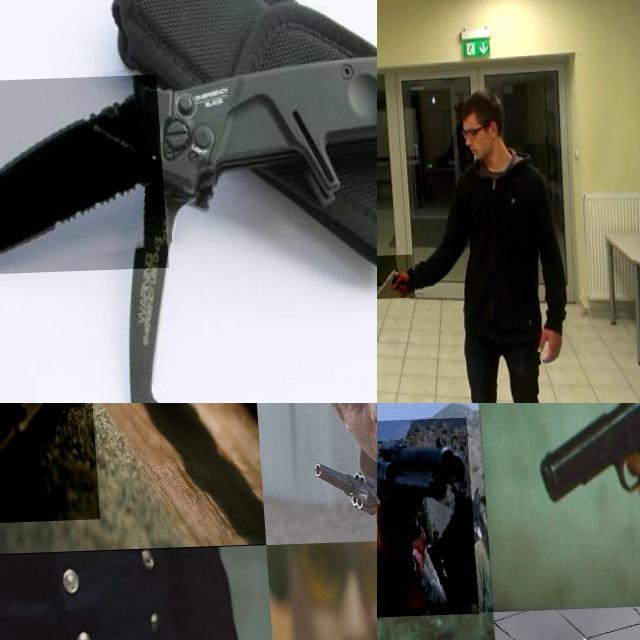-: (0, 76, 163, 278)
gun-knife-thesis - v11 Yolov5 augmented: (377, 419, 474, 620), (528, 403, 640, 569), (0, 403, 95, 524), (302, 446, 377, 545), (377, 257, 409, 302)
